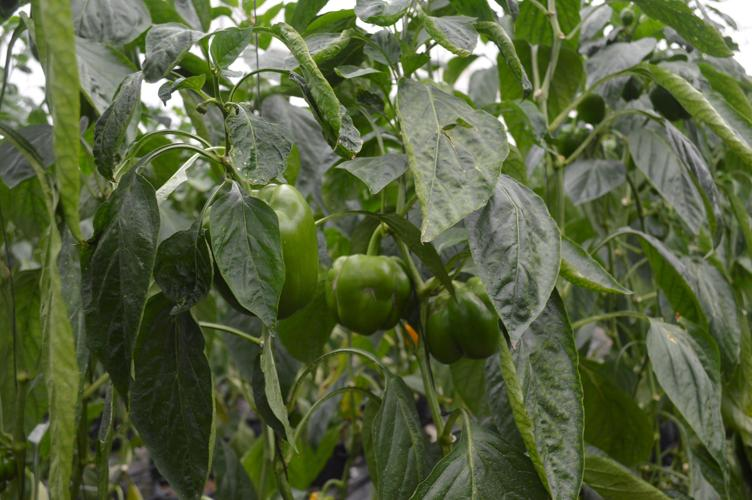BellPepper: (200, 176, 328, 328), (323, 240, 420, 344), (409, 270, 509, 368)
